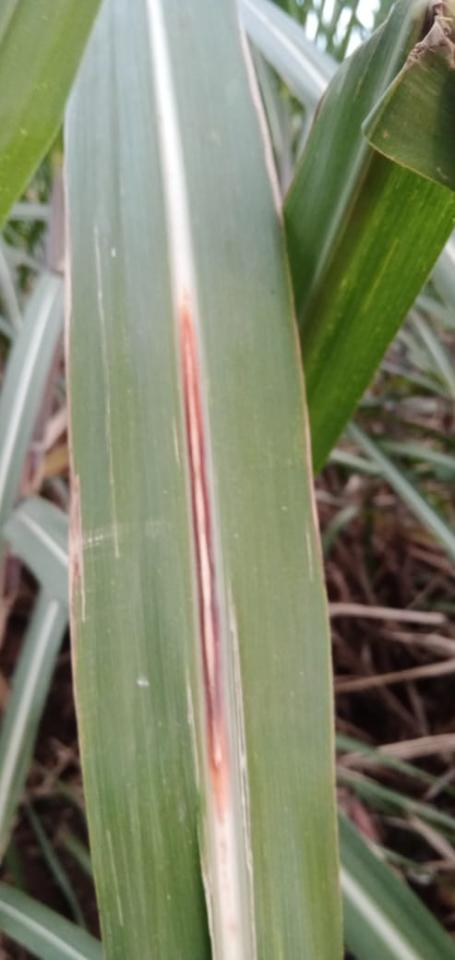RedRot: (176, 281, 231, 816)
